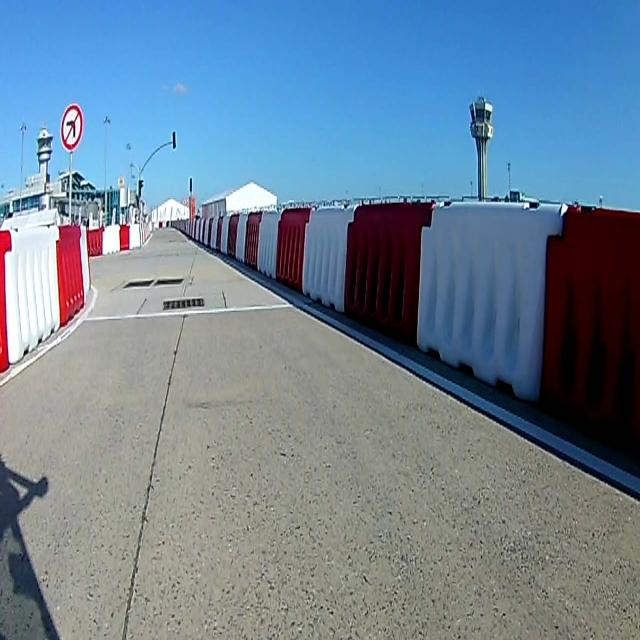soladonulmez: (60, 103, 84, 152)
